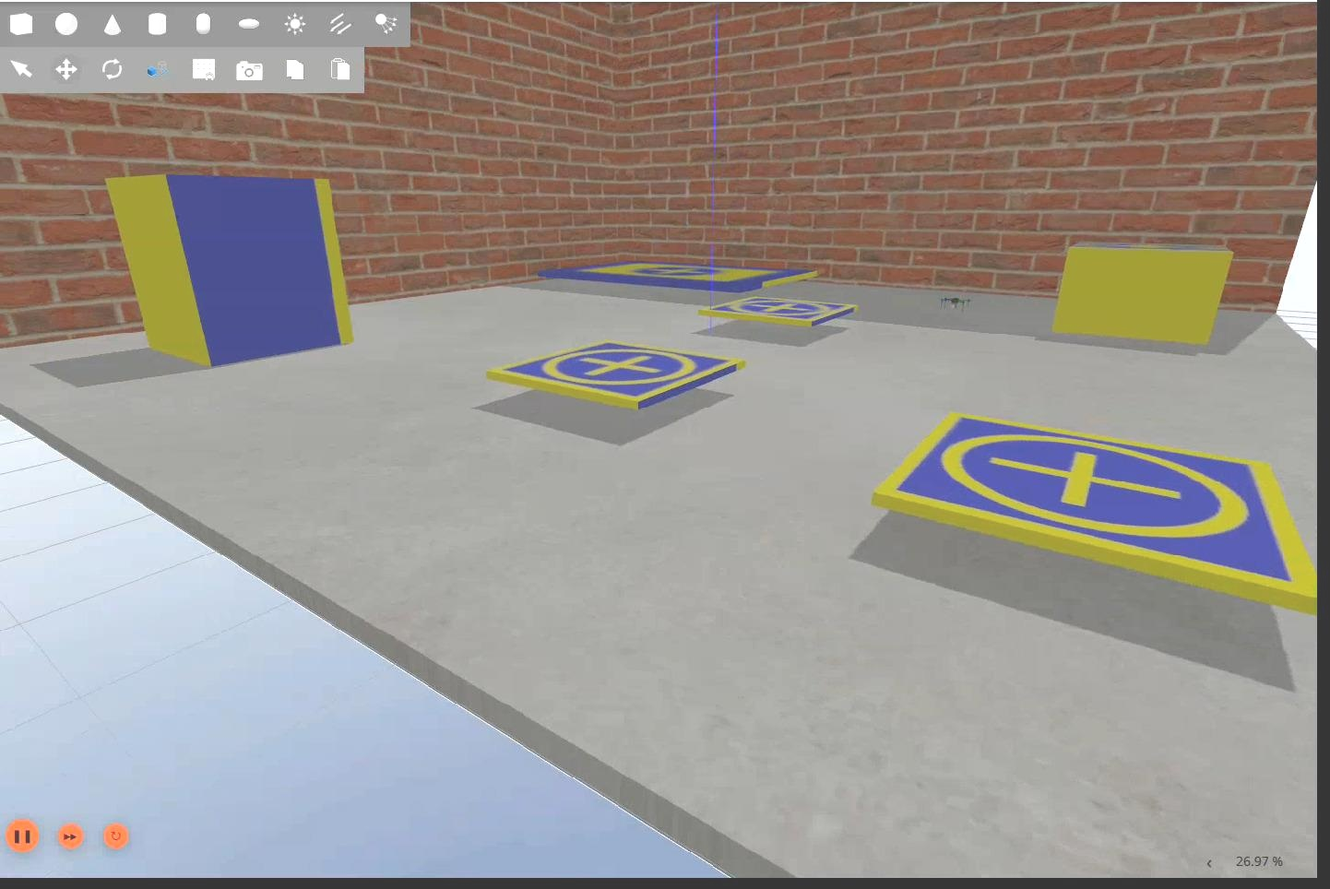large_base: (538, 256, 819, 293)
small_base: (872, 411, 1320, 617), (488, 338, 742, 409), (707, 295, 860, 332)
